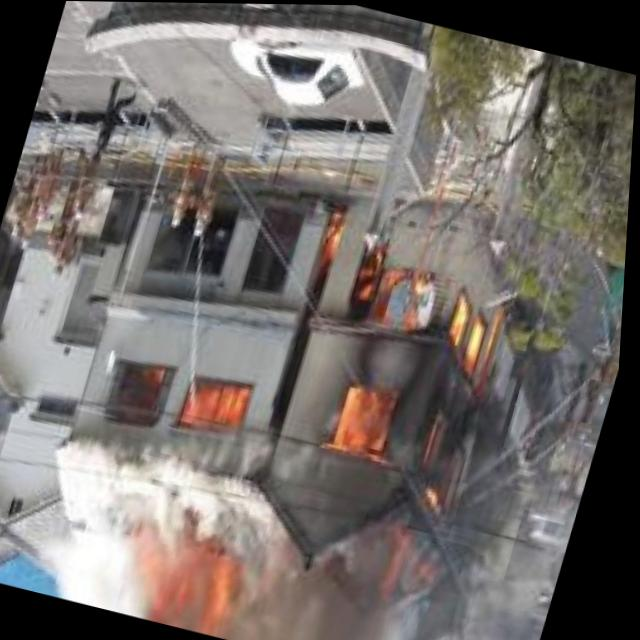Fire: (233, 198, 575, 589), (106, 516, 269, 640), (141, 360, 256, 438)
